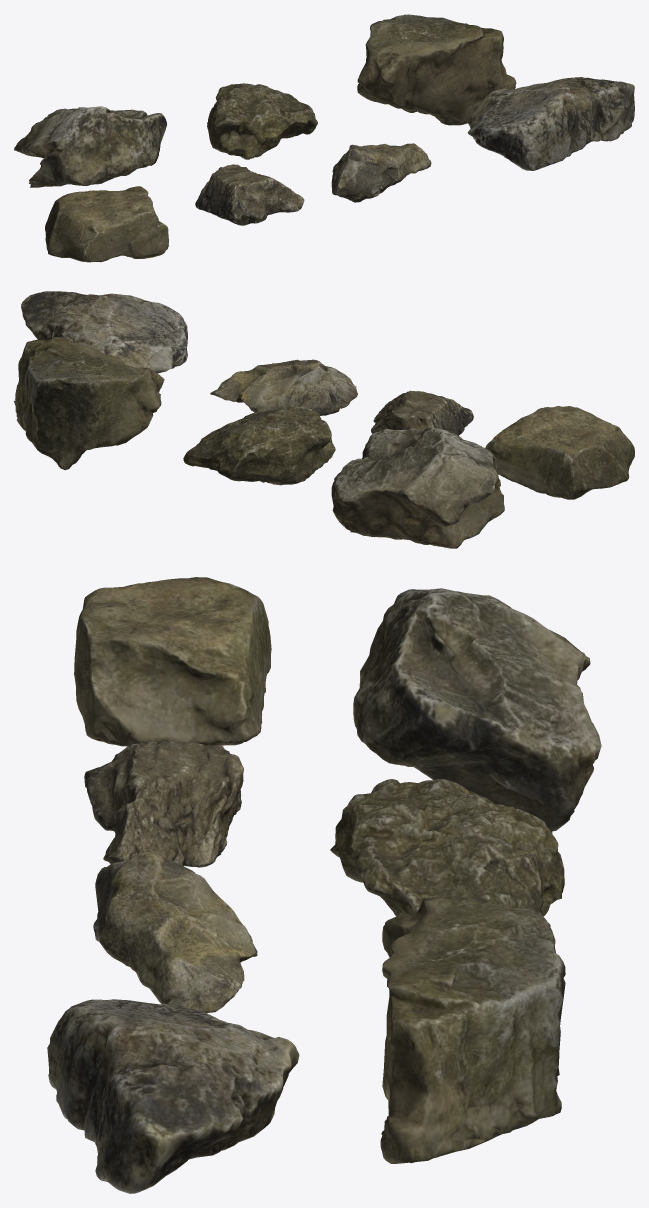
Rendered from rock_moss_set_02.glb.
3 views of the same model, one above another, from view 1: azimuth 30°, elevation 25°; view 2: azimuth 150°, elevation 25°; view 3: azimuth 270°, elevation 25° (orthographic). The views are drawn at different scales.
Visible parts, largest first — view 1: rock_moss_set_02_rock13, rock_moss_set_02_rock10, rock_moss_set_02_rock11, rock_moss_set_02_rock07, rock_moss_set_02_rock12, rock_moss_set_02_rock08, rock_moss_set_02_rock09; view 2: rock_moss_set_02_rock11, rock_moss_set_02_rock13, rock_moss_set_02_rock07, rock_moss_set_02_rock10, rock_moss_set_02_rock12, rock_moss_set_02_rock09, rock_moss_set_02_rock08; view 3: rock_moss_set_02_rock13, rock_moss_set_02_rock11, rock_moss_set_02_rock10, rock_moss_set_02_rock07, rock_moss_set_02_rock12, rock_moss_set_02_rock09, rock_moss_set_02_rock08.
Part boxes in pixels (<box>): rock_moss_set_02_rock13: <box>357,14,516,125</box>; rock_moss_set_02_rock10: <box>467,77,634,170</box>; rock_moss_set_02_rock11: <box>14,106,166,187</box>; rock_moss_set_02_rock07: <box>45,186,168,262</box>; rock_moss_set_02_rock12: <box>207,83,317,159</box>; rock_moss_set_02_rock08: <box>195,164,304,225</box>; rock_moss_set_02_rock09: <box>331,143,431,202</box>; rock_moss_set_02_rock11: <box>331,427,504,548</box>; rock_moss_set_02_rock13: <box>14,337,164,470</box>; rock_moss_set_02_rock07: <box>485,406,634,499</box>; rock_moss_set_02_rock10: <box>21,291,187,373</box>; rock_moss_set_02_rock12: <box>183,406,335,485</box>; rock_moss_set_02_rock09: <box>210,359,357,415</box>; rock_moss_set_02_rock08: <box>371,390,473,435</box>; rock_moss_set_02_rock13: <box>380,895,565,1163</box>; rock_moss_set_02_rock11: <box>353,588,601,833</box>; rock_moss_set_02_rock10: <box>47,999,299,1193</box>; rock_moss_set_02_rock07: <box>74,577,271,746</box>; rock_moss_set_02_rock12: <box>330,779,564,926</box>; rock_moss_set_02_rock09: <box>93,851,257,1013</box>; rock_moss_set_02_rock08: <box>84,741,243,867</box>.
Bounding box in the file's own units: 8.28 × 1.37 × 3.41.
1 material, 1 textured.
